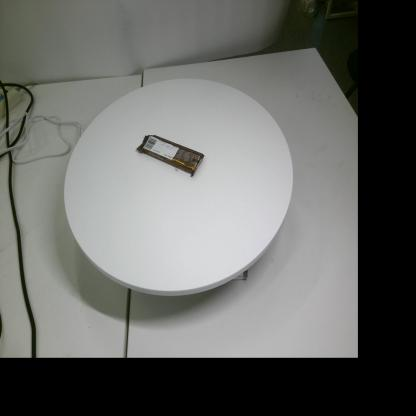Chocolate: (136, 135, 205, 176)
